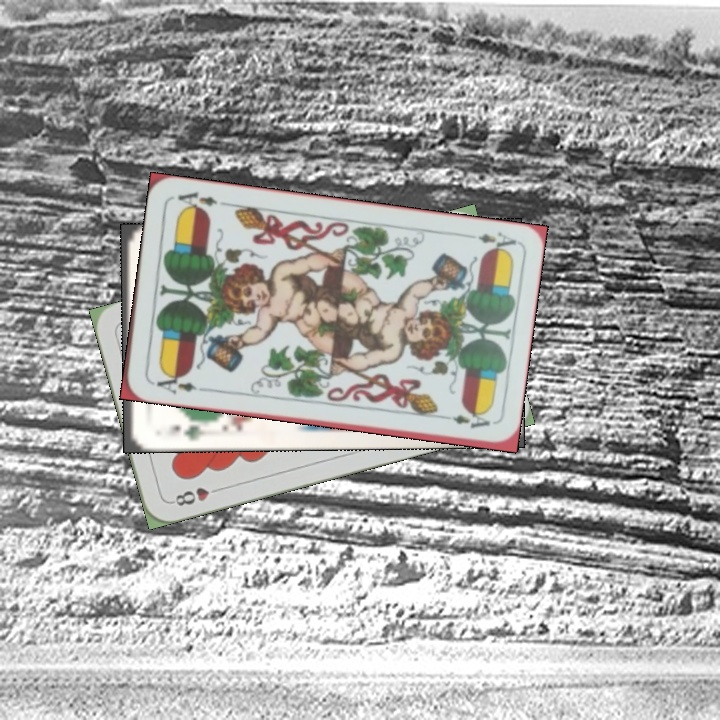EA: (147, 368, 206, 397), (460, 228, 519, 256)
GK: (163, 416, 208, 443)
H8: (167, 483, 225, 509)
